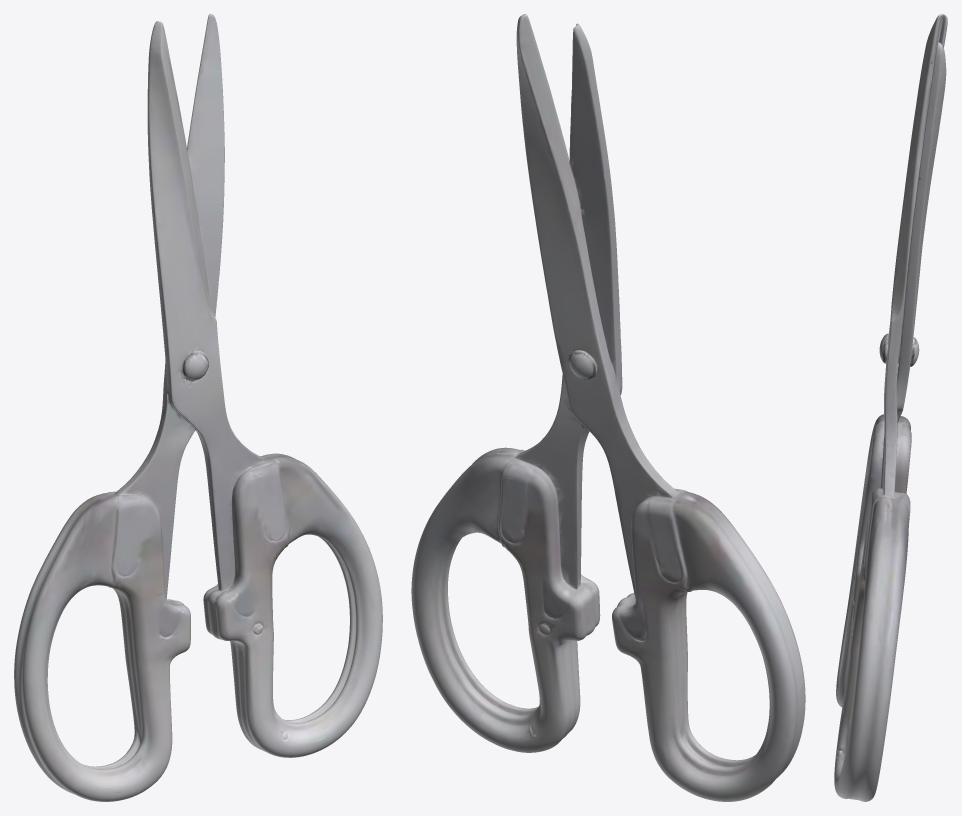
File: tool-jiandao.glb
3 views of the same model, side by side, from view 1: azimuth 30°, elevation 25°; view 2: azimuth 150°, elevation 25°; view 3: azimuth 270°, elevation 25° (orthographic). The views are drawn at different scales.
Visible parts, largest first — view 1: node_0; view 2: node_0; view 3: node_0.
Part boxes in pixels (<box>): node_0: <box>14,14,382,801</box>; node_0: <box>411,14,805,801</box>; node_0: <box>834,14,947,801</box>.
Bounding box in the file's own units: 0.5909 × 1.15 × 0.1615.
1 material, 1 textured.
